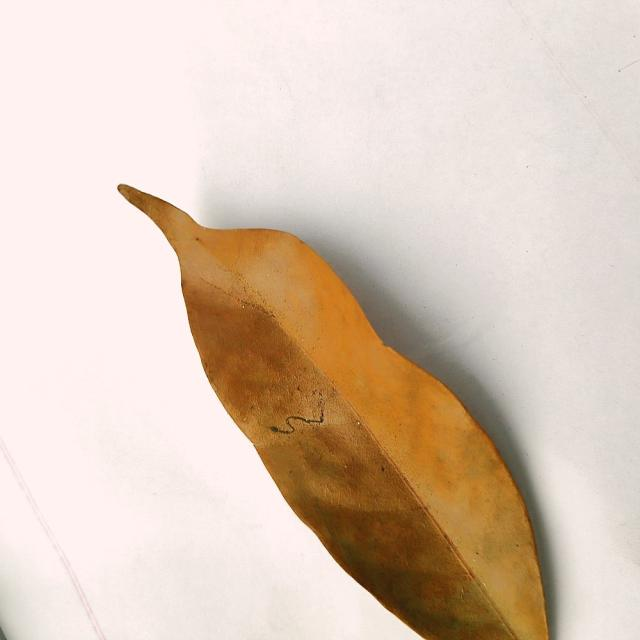Dry_Leaf-Lychee: (118, 185, 554, 639)
